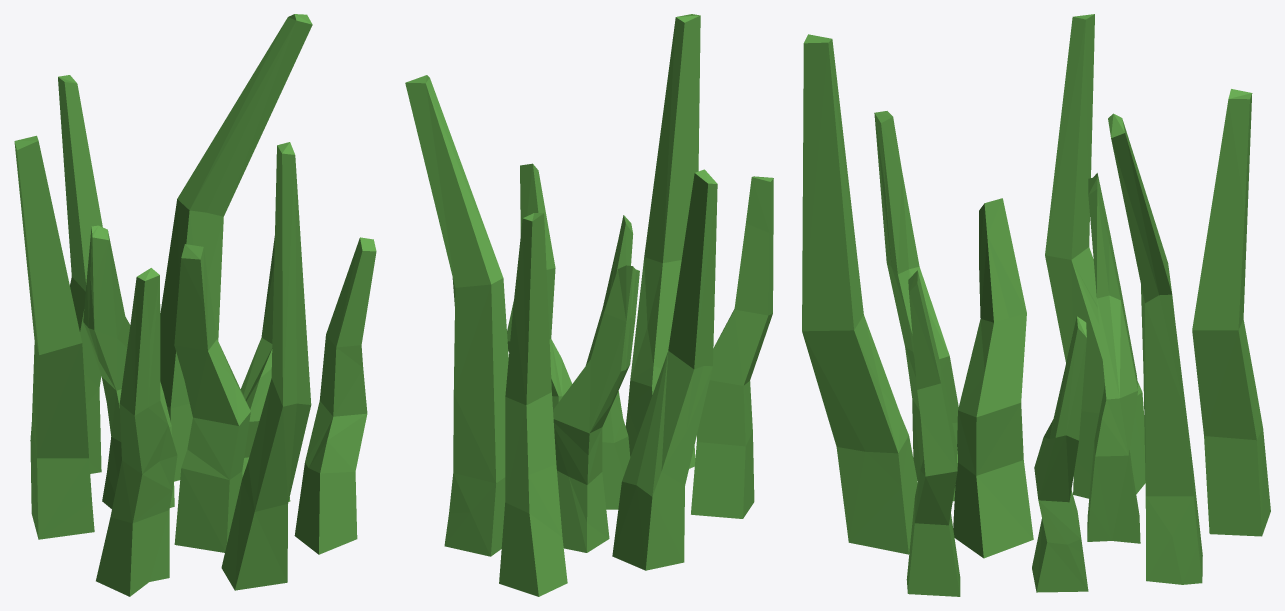
File: grass.fbx
3 views of the same model, side by side, from view 1: azimuth 30°, elevation 25°; view 2: azimuth 150°, elevation 25°; view 3: azimuth 270°, elevation 25° (orthographic). The views are drawn at different scales.
Visible parts, largest first — view 1: grass; view 2: grass; view 3: grass.
Part boxes in pixels (x1,y1,x2,y2): grass: (14,14,376,596); grass: (405,14,773,596); grass: (802,14,1270,596).
Bounding box in the file's own units: 95.87 × 136 × 114.
